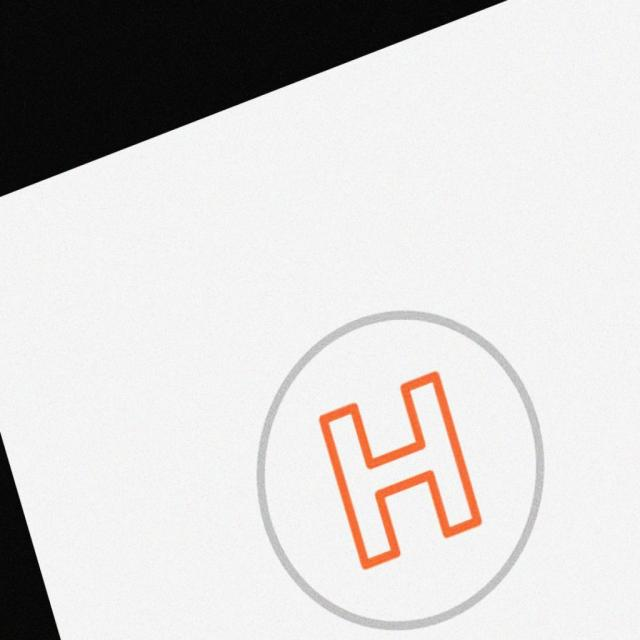helipad: (250, 302, 548, 634)
